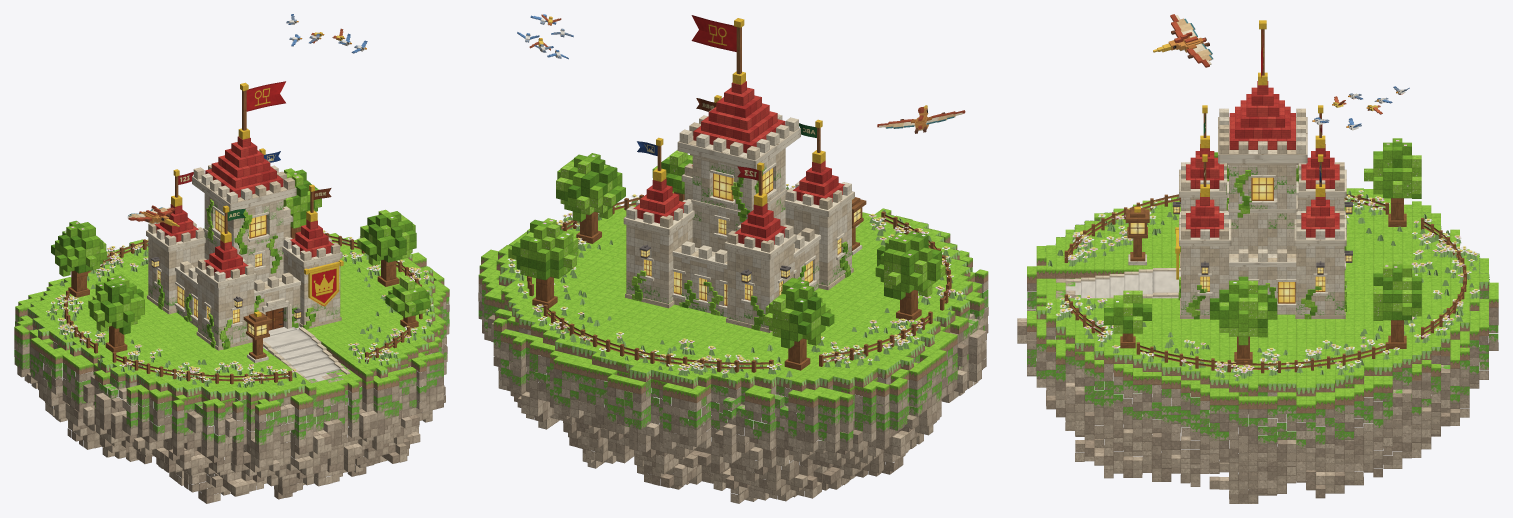
The model's file is castle-island.glb.
The picture shows the model from 3 angles, left to right: view 1: azimuth 30°, elevation 25°; view 2: azimuth 150°, elevation 25°; view 3: azimuth 270°, elevation 25°; orthographic projection. The views are drawn at different scales.
Parts seen in each view (by area): view 1: Island_Rocks, Island_GrassTop, Castle_Stone, Island_TreeLeaves, Island_GrassSide, Island_WoodProps, Castle_Roof, Island_GrassTufts, Island_Stairs, Castle_Vines, Island_FlowersCenter, Castle_Gold (+5 smaller); view 2: Island_Rocks, Island_GrassTop, Castle_Stone, Island_TreeLeaves, Island_GrassSide, Castle_Roof, Island_WoodProps, Island_GrassTufts, Castle_Windows, Castle_Vines, Island_FlowersCenter, Island_FlowersWhite (+3 smaller); view 3: Island_Rocks, Island_GrassTop, Castle_Stone, Island_TreeLeaves, Island_GrassSide, Castle_Roof, Island_GrassTufts, Island_WoodProps, Island_Stairs, Island_FlowersWhite, Island_FlowersCenter, Castle_Vines (+4 smaller).
Part boxes in pixels (x1,y1,x2,y2): Island_Rocks: (14,266,449,503); Island_GrassTop: (14,233,448,407); Castle_Stone: (146,159,350,382); Island_TreeLeaves: (51,168,430,334); Island_GrassSide: (14,255,449,415); Island_WoodProps: (64,90,422,384); Castle_Roof: (154,136,333,278); Island_GrassTufts: (27,233,434,400); Island_Stairs: (263,326,344,383); Castle_Vines: (157,199,315,349); Island_FlowersCenter: (47,230,431,382); Castle_Gold: (171,82,343,317); Island_Rocks: (478,225,988,503); Island_GrassTop: (479,191,987,399); Castle_Stone: (623,108,862,332); Island_TreeLeaves: (508,150,945,348); Island_GrassSide: (478,211,988,408); Castle_Roof: (633,81,844,247); Island_WoodProps: (527,27,951,372); Island_GrassTufts: (497,186,970,387); Castle_Windows: (644,168,841,305); Castle_Vines: (631,169,850,330); Island_FlowersCenter: (510,184,961,372); Island_FlowersWhite: (507,155,963,373); Island_Rocks: (1017,278,1498,503); Island_GrassTop: (1027,188,1498,404); Castle_Stone: (1065,108,1346,318); Island_TreeLeaves: (1104,138,1421,345); Island_GrassSide: (1027,217,1498,413); Castle_Roof: (1186,81,1339,237); Island_GrassTufts: (1035,190,1489,394); Island_WoodProps: (1064,29,1466,373); Island_Stairs: (1065,271,1180,298); Island_FlowersWhite: (1046,190,1479,373); Island_FlowersCenter: (1047,190,1477,375); Castle_Vines: (1178,165,1346,319).
Bounding box in the file's own units: 13.26 × 12.27 × 12.51.
26 materials, 21 textured.
